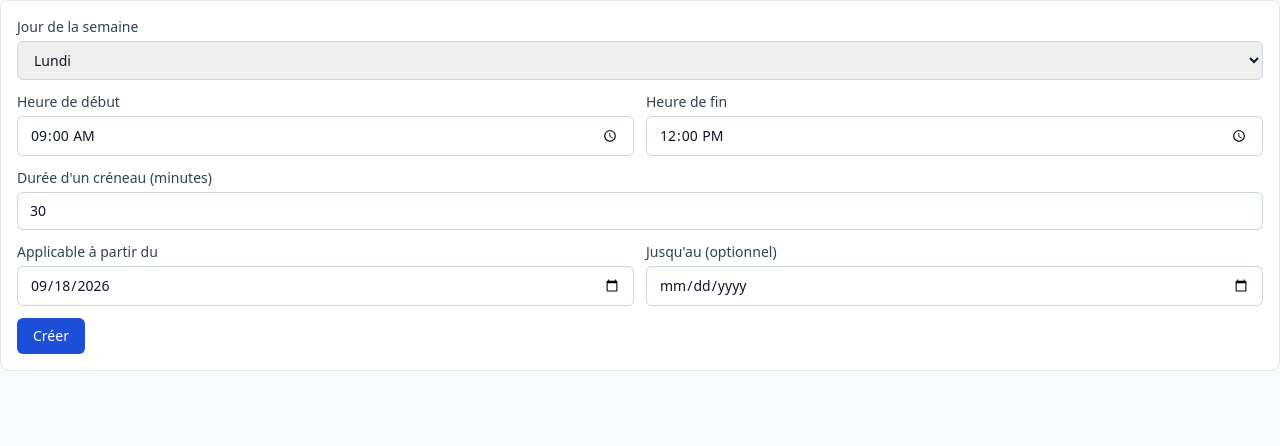
it: AvailabilityRuleForm › affiche une erreur 409 (chevauchement) renvoyée par l'API
The image size is (1280, 446).
Click the button "Créer" at (51, 336), box [17,318,85,354]
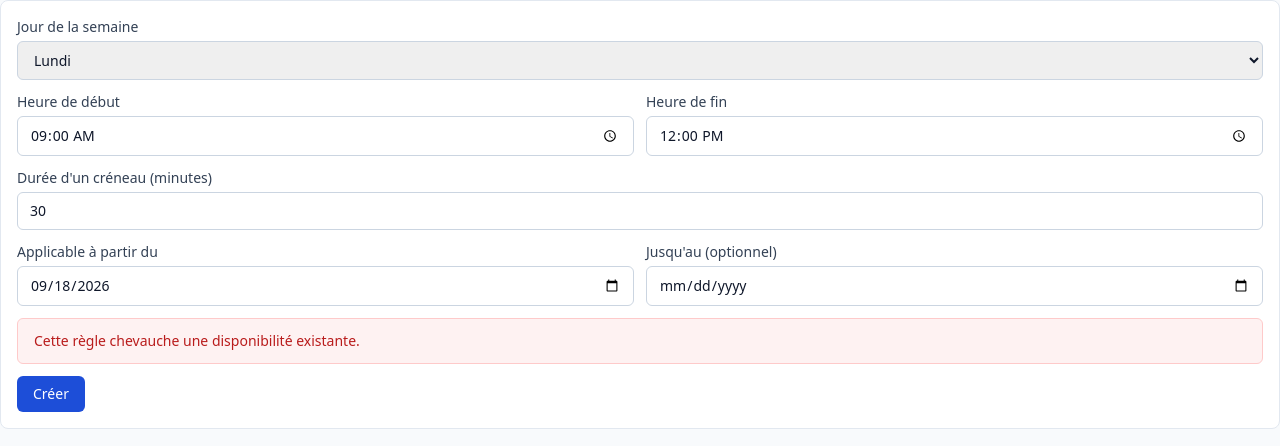
Now the message reads "Cette règle chevauche une disponibilité existante.", box [34,331,360,350]
